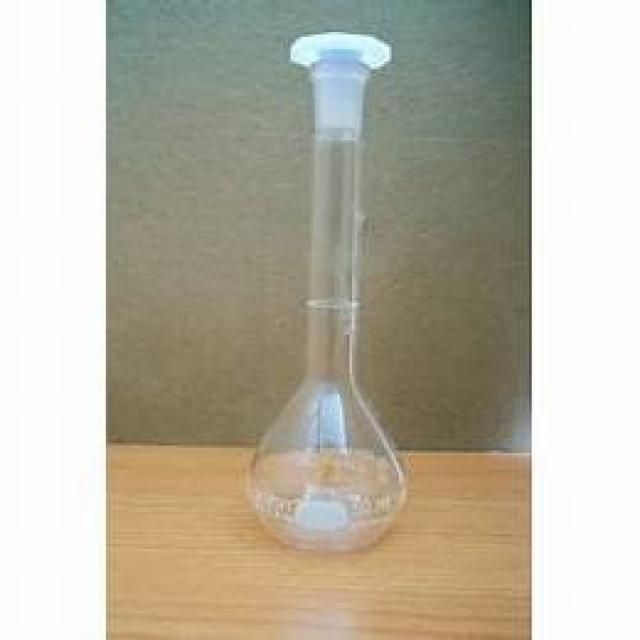Volumetric flask: (234, 8, 410, 551)
